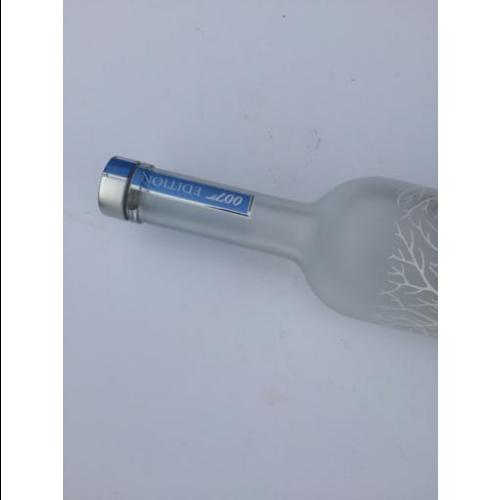glass: (124, 159, 436, 301)
